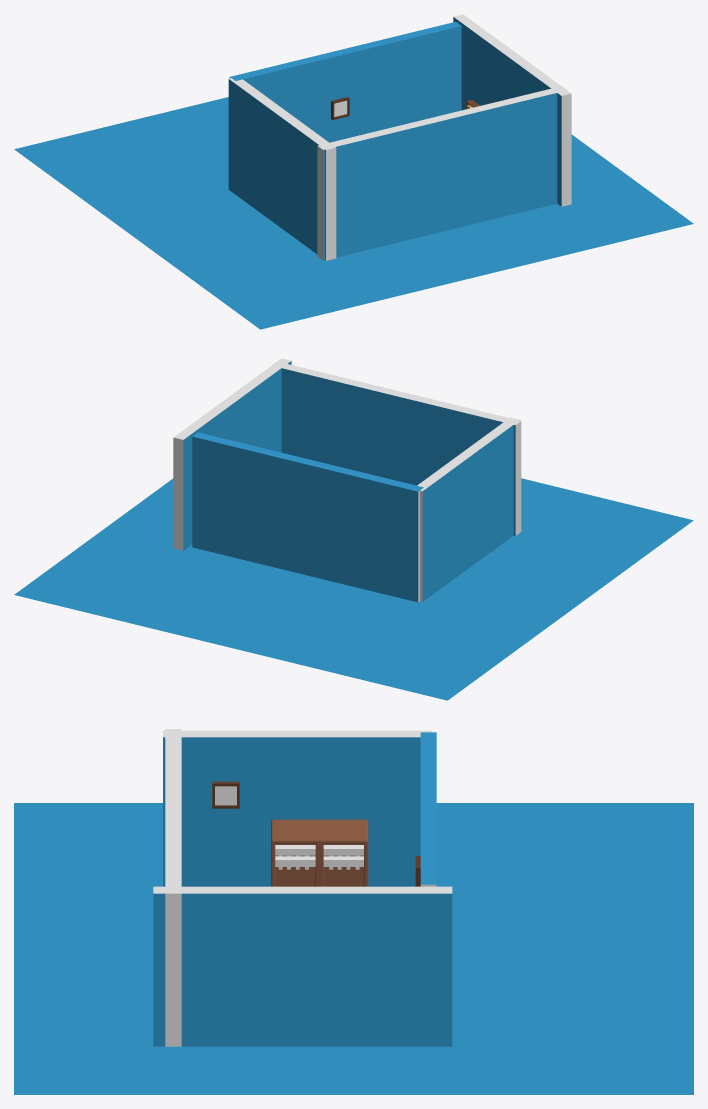
Rendered from FinishedBedroom.fbx.
3 renders of one model, top to bottom at view 1: azimuth 30°, elevation 25°; view 2: azimuth 150°, elevation 25°; view 3: azimuth 270°, elevation 25°, orthographic. The views are drawn at different scales.
Parts seen in each view (by area): view 1: Ground, Wall2, Wall4, Wall3, Wall1; view 2: Ground, Wall4, Wall2, Wall3, Wall1; view 3: Ground, Wall1, Wall3, Closet, Wall2, Wall4, Picture.
Boxes of the visible parts, <box> form: Ground: <box>14,97,693,329</box>; Wall2: <box>317,86,567,260</box>; Wall4: <box>229,21,461,142</box>; Wall3: <box>228,78,336,260</box>; Wall1: <box>453,14,571,206</box>; Ground: <box>14,478,693,700</box>; Wall4: <box>192,432,423,602</box>; Wall2: <box>272,362,521,535</box>; Wall3: <box>417,417,520,601</box>; Wall1: <box>173,358,291,550</box>; Ground: <box>14,803,693,1094</box>; Wall1: <box>153,886,452,1046</box>; Wall3: <box>163,730,431,886</box>; Closet: <box>271,819,368,886</box>; Wall2: <box>165,729,181,1046</box>; Wall4: <box>420,732,436,886</box>; Picture: <box>212,781,239,808</box>.
Size of the model in its own units: 8608 by 2268 by 8472.
